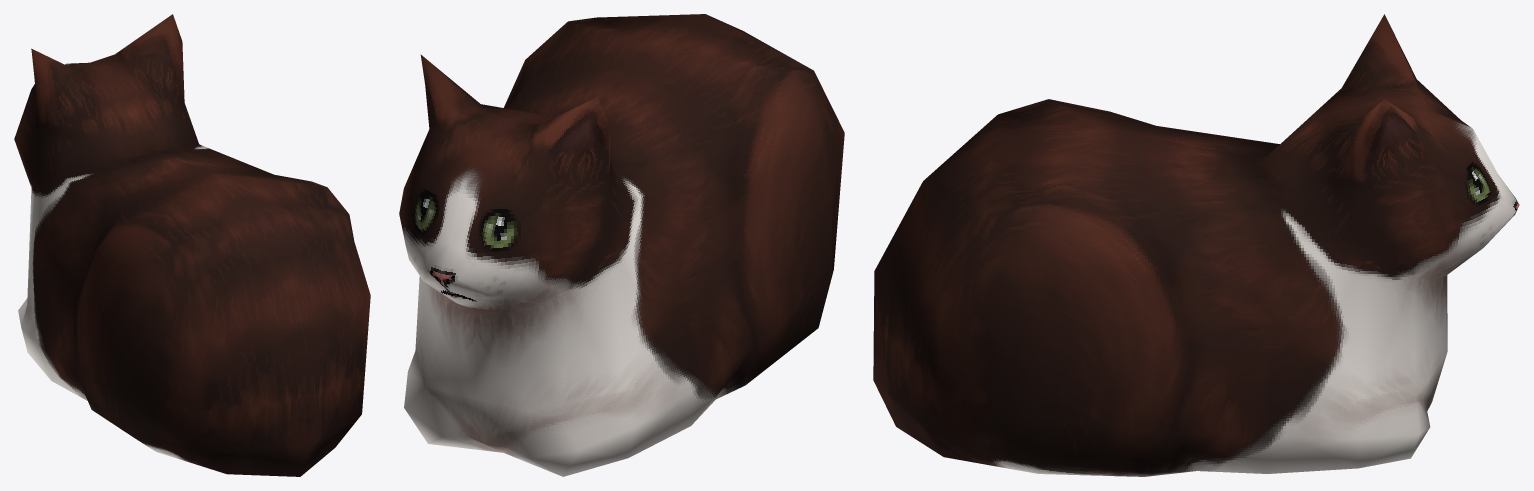
The model's file is cat_loaf_brown.glb.
3 views of the same model, side by side, from view 1: azimuth 30°, elevation 25°; view 2: azimuth 150°, elevation 25°; view 3: azimuth 270°, elevation 25° (orthographic). The views are drawn at different scales.
Parts seen in each view (by area): view 1: CatLoafBrown256; view 2: CatLoafBrown256; view 3: CatLoafBrown256.
Boxes of the visible parts, left/top/right/bottom form: CatLoafBrown256: left=14, top=14, right=370, bottom=476; CatLoafBrown256: left=399, top=14, right=844, bottom=476; CatLoafBrown256: left=873, top=14, right=1519, bottom=476.
Bounding box in the file's own units: 0.2077 × 0.2561 × 0.3957.
Materials: 1 (1 with a texture image).
